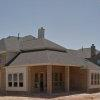Chimney: (30, 19, 52, 41)
